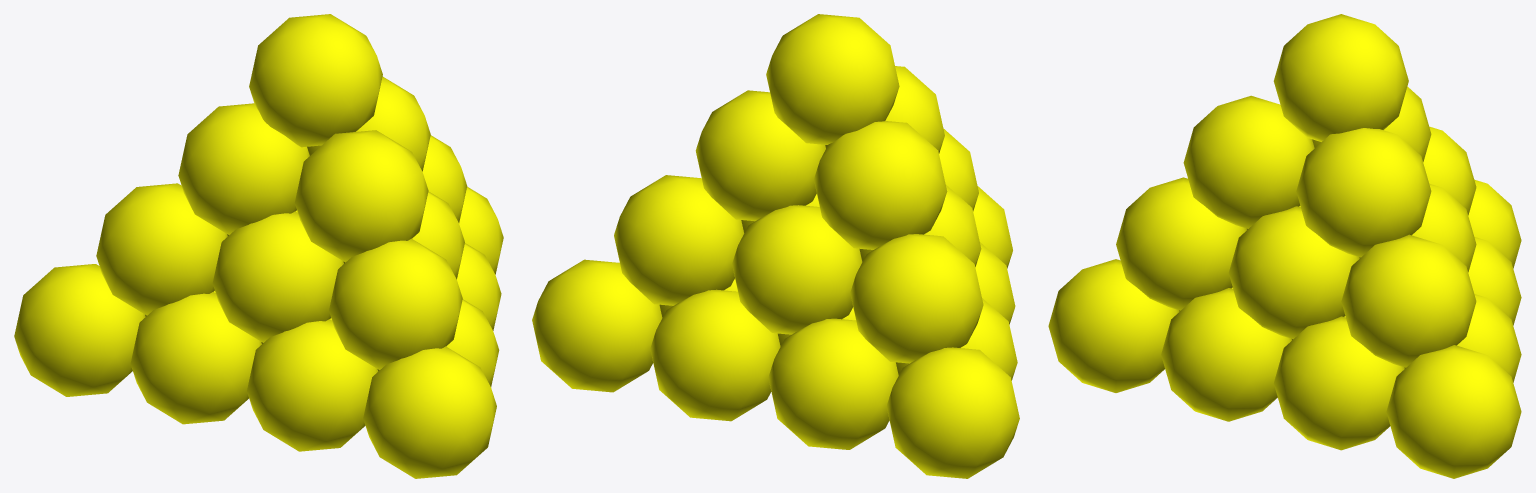
Rendered from kaykit-snowball-pile.glb.
The picture shows the model from 3 angles, left to right: view 1: azimuth 30°, elevation 25°; view 2: azimuth 150°, elevation 25°; view 3: azimuth 270°, elevation 25°; orthographic projection.
Parts seen in each view (by area): view 1: snowball_pile; view 2: snowball_pile; view 3: snowball_pile.
Part boxes in pixels (left/top/right/bottom): snowball_pile: left=14, top=14, right=503, bottom=478; snowball_pile: left=532, top=14, right=1019, bottom=478; snowball_pile: left=1048, top=14, right=1521, bottom=478.
Bounding box in the file's own units: 1.19 × 0.9 × 1.05.
